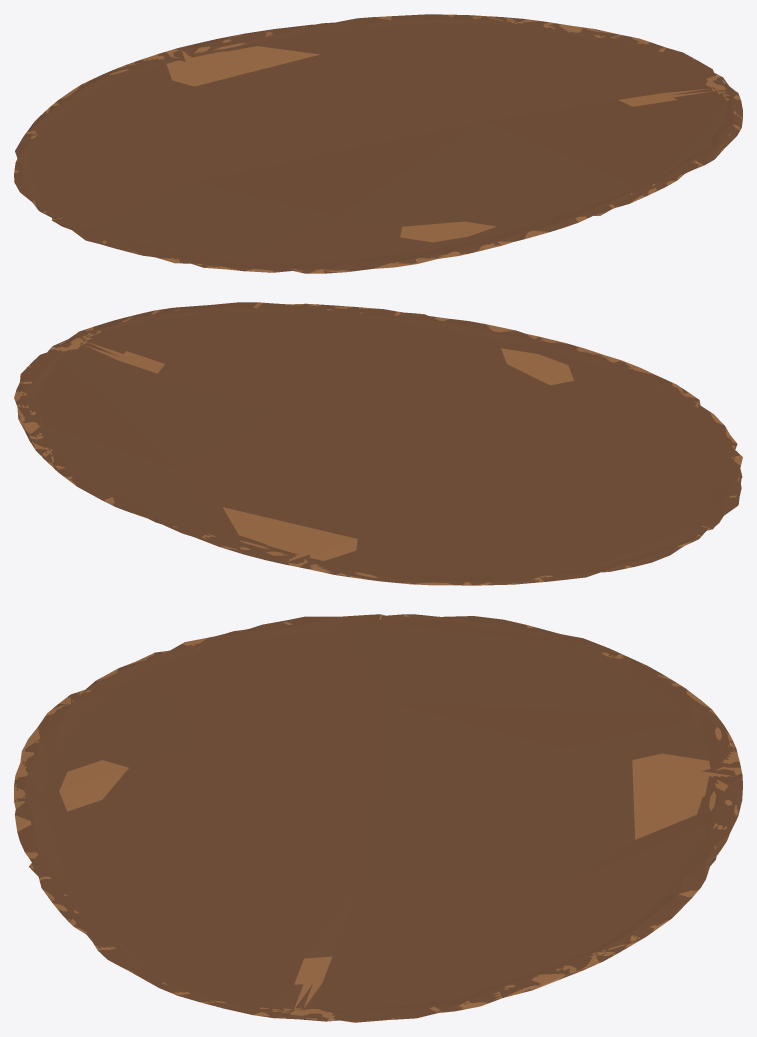
Rendered from RugRound.glb.
The picture shows the model from 3 angles, top to bottom: view 1: azimuth 30°, elevation 25°; view 2: azimuth 150°, elevation 25°; view 3: azimuth 270°, elevation 25°; orthographic projection. The views are drawn at different scales.
Visible parts, largest first — view 1: RugRound; view 2: RugRound; view 3: RugRound.
Boxes of the visible parts, x1,y1,x2,y2 form: RugRound: (14,14,742,273); RugRound: (14,302,742,585); RugRound: (14,614,742,1022).
Size of the model in its own units: 2.4 by 0.02 by 1.81.
